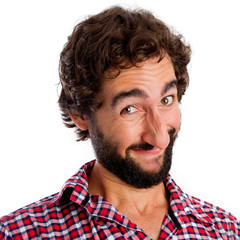young: (55, 15, 198, 194)
